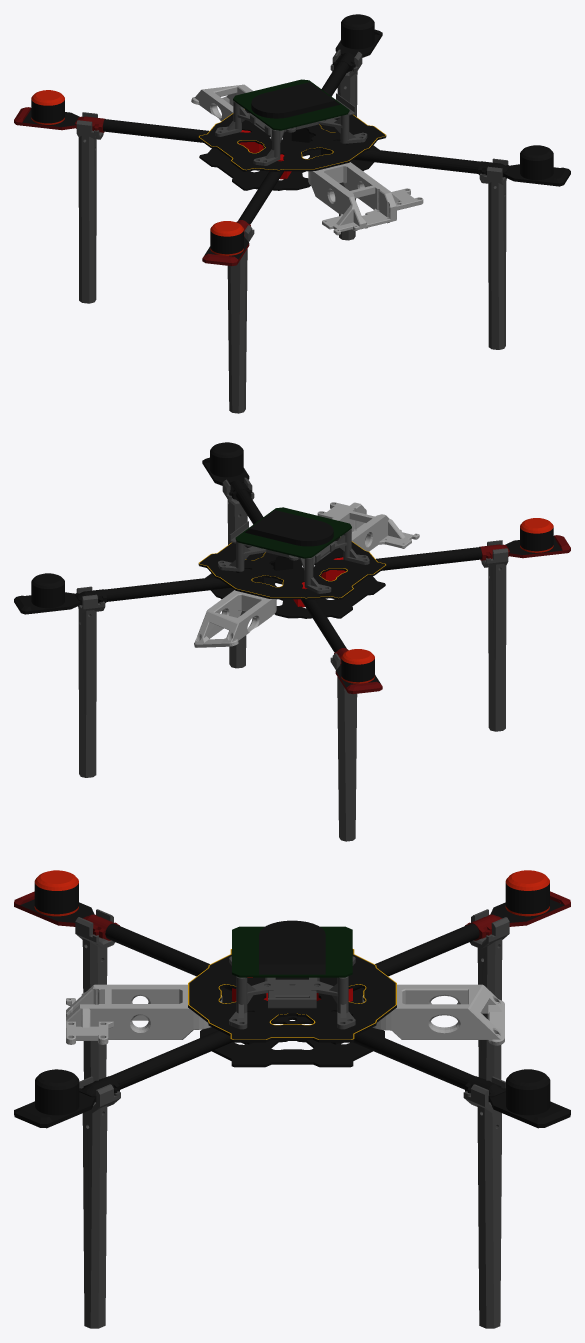
Rendered from tarotBody.obj.
3 renders of one model, top to bottom at view 1: azimuth 30°, elevation 25°; view 2: azimuth 150°, elevation 25°; view 3: azimuth 270°, elevation 25°, orthographic. The views are drawn at different scales.
Visible parts, largest first — view 1: Object.1, Object.2; view 2: Object.1, Object.2; view 3: Object.1, Object.2.
Boxes of the visible parts, left/top/right/bottom form: Object.1: left=14, top=14, right=570, bottom=413; Object.2: left=215, top=79, right=367, bottom=165; Object.1: left=14, top=442, right=570, bottom=841; Object.2: left=218, top=507, right=369, bottom=593; Object.1: left=14, top=870, right=570, bottom=1328; Object.2: left=229, top=920, right=355, bottom=1029.
Bounding box in the file's own units: 502 × 294 × 502.
